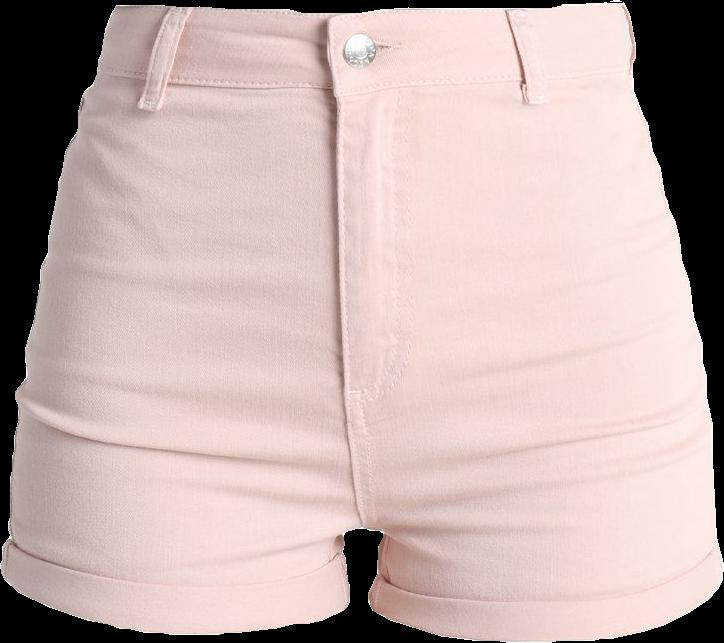Hemline: (0, 570, 352, 636), (366, 579, 723, 642)
Pantleg: (324, 2, 722, 640), (1, 5, 360, 632)
Waistline: (95, 62, 636, 92), (115, 0, 624, 20)
